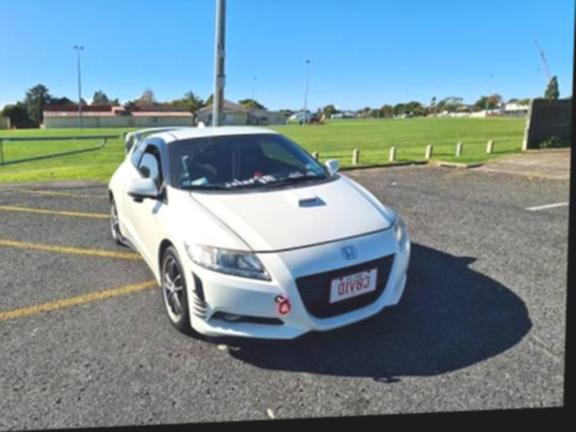License_Plate: (323, 262, 383, 307)
